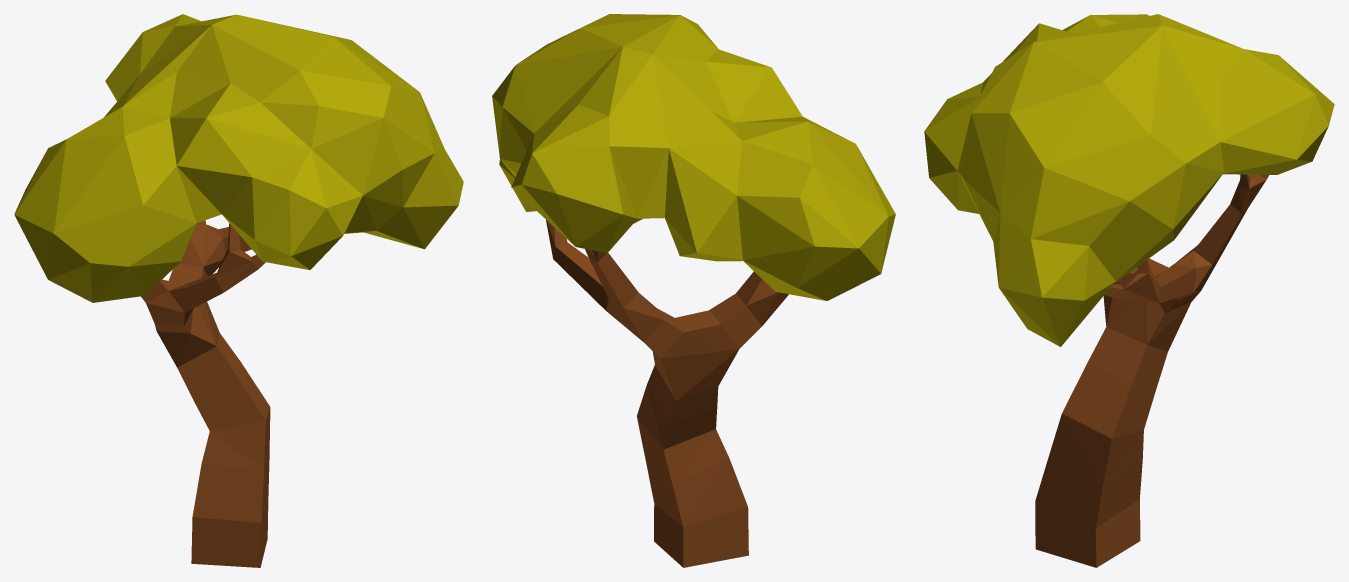
Rendered from Oak3.fbx.
The picture shows the model from 3 angles, left to right: view 1: azimuth 30°, elevation 25°; view 2: azimuth 150°, elevation 25°; view 3: azimuth 270°, elevation 25°; orthographic projection. The views are drawn at different scales.
Parts seen in each view (by area): view 1: Oak3; view 2: Oak3; view 3: Oak3.
Boxes of the visible parts, x1,y1,x2,y2 form: Oak3: (14,14,463,567); Oak3: (492,14,895,567); Oak3: (924,14,1334,567).
Size of the model in its own units: 330 by 398 by 273.
